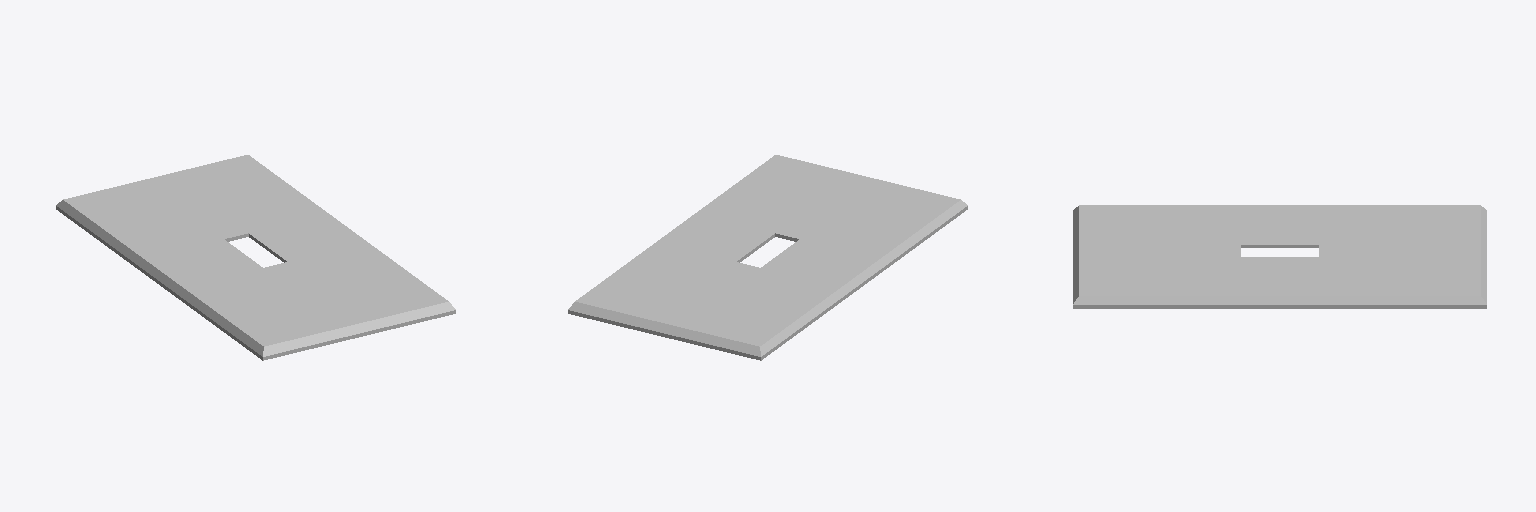
The model's file is SwitchColver.obj.
3 renders of one model, left to right at view 1: azimuth 30°, elevation 25°; view 2: azimuth 150°, elevation 25°; view 3: azimuth 270°, elevation 25°, orthographic.
Visible parts, largest first — view 1: Cube.006_Cube.008; view 2: Cube.006_Cube.008; view 3: Cube.006_Cube.008.
Boxes of the visible parts, x1,y1,x2,y2 form: Cube.006_Cube.008: [56, 155, 455, 360]; Cube.006_Cube.008: [568, 155, 967, 360]; Cube.006_Cube.008: [1073, 205, 1486, 308].
Size of the model in its own units: 3.17 by 0.1692 by 5.89.